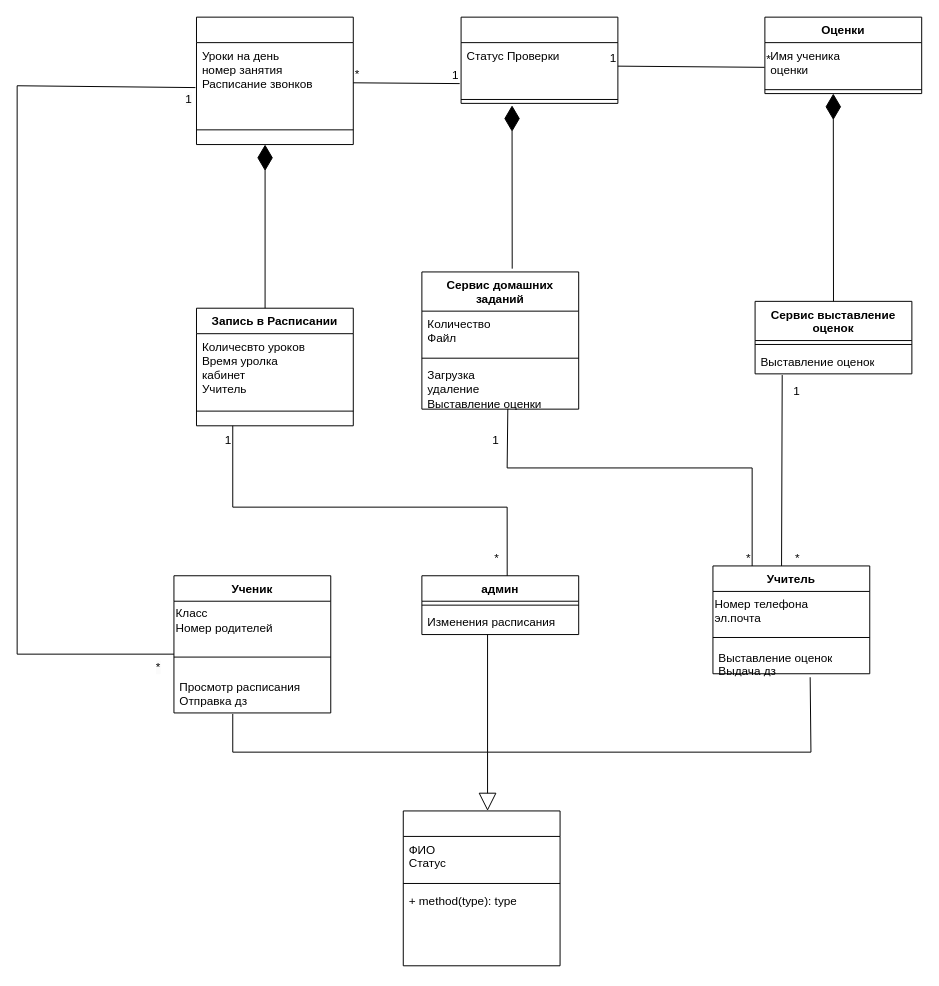
Some shapes in this 939 by 986 pixel diagram are drawn without their labels. The shapes that lost their labels are listed below. From the top down, each one's box as (x1, y1, x2, y2) in pixels, then its label:
(460, 16, 618, 103): Домашние задания
(196, 16, 353, 145): Распсиание
(402, 810, 560, 966): Пользователь
